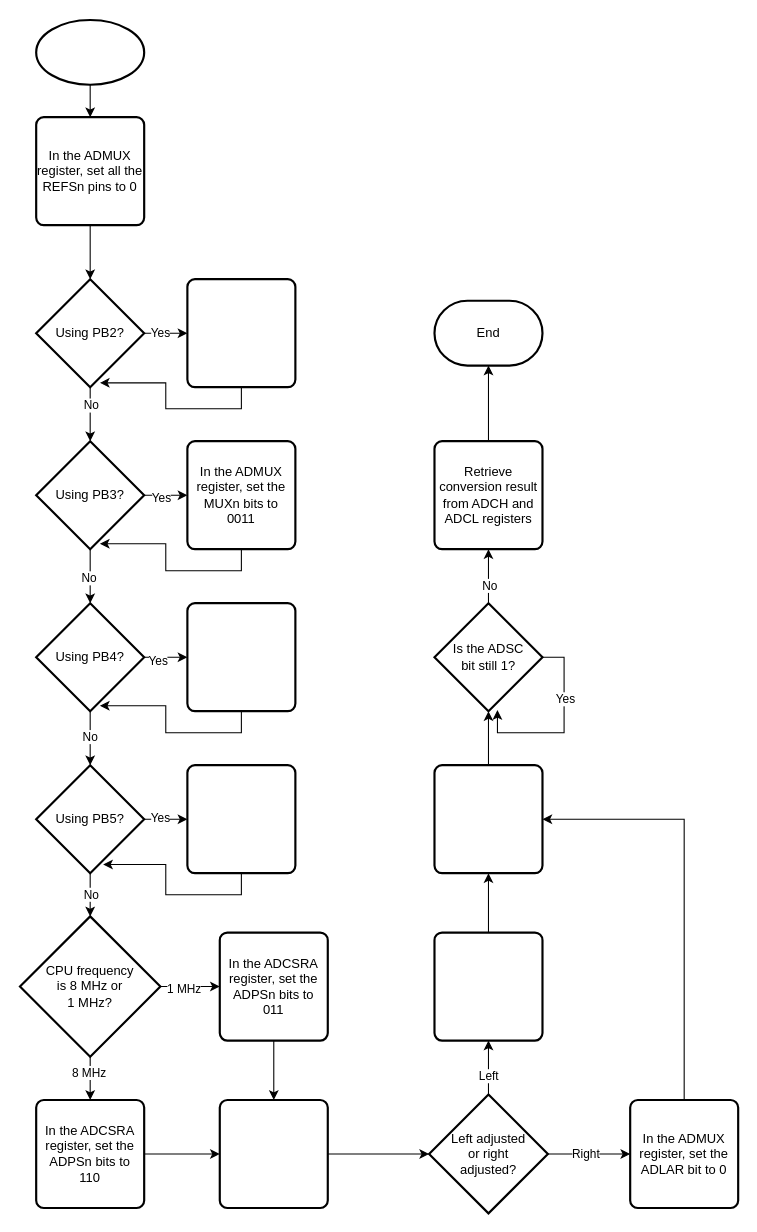
This 757x1232 diagram has some shape labels left out. The shapes that lost their labels are listed below. From the top down, each one's centre as x and y in pixels, then its label:
At pixel 90 51: "Start".
At pixel 241 333: "In the ADMUX register, set the MUXn bits to 0001".
At pixel 241 657: "In the ADMUX register, set the MUXn bits to 0010".
At pixel 241 819: "In the ADMUX register, set the MUXn bits to 0000".
At pixel 488 819: "In the ADCSRA register, set the ADSC bit to 1".
At pixel 488 986: "In the ADMUX register, set the ADLAR bit to 1".
At pixel 273 1153: "In the ADCSRA register, set the ADEN".
